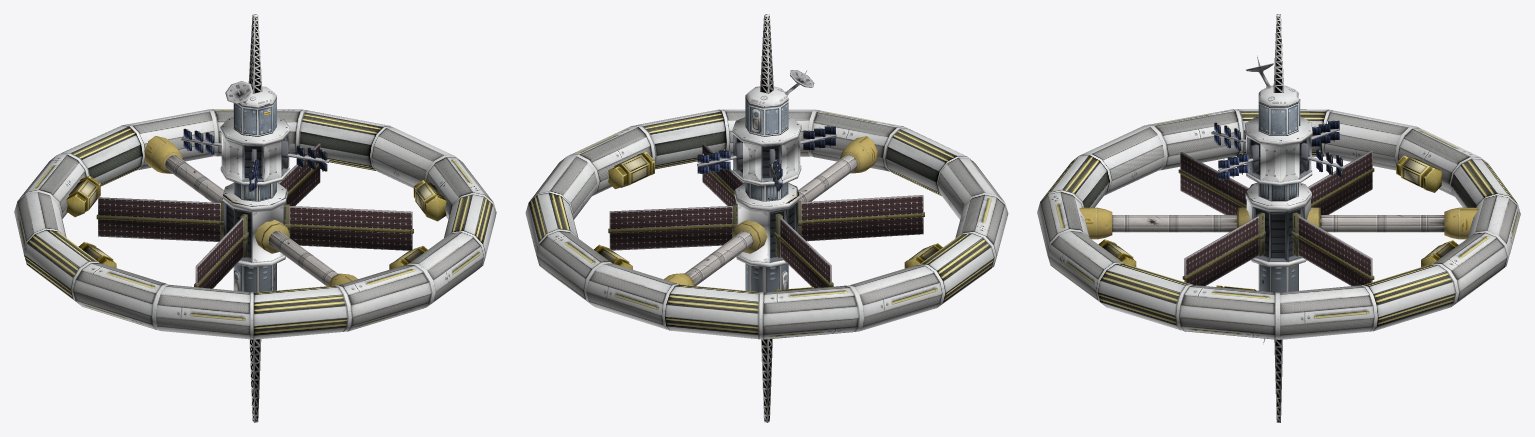
The model's file is spacestation.obj.
3 renders of one model, left to right at view 1: azimuth 30°, elevation 25°; view 2: azimuth 150°, elevation 25°; view 3: azimuth 270°, elevation 25°, orthographic.
Visible parts, largest first — view 1: RT_3D_Station2_Model; view 2: RT_3D_Station2_Model; view 3: RT_3D_Station2_Model.
Part boxes in pixels (x1,y1,x2,y2): RT_3D_Station2_Model: [14, 14, 496, 422]; RT_3D_Station2_Model: [525, 14, 1008, 422]; RT_3D_Station2_Model: [1037, 14, 1520, 422].
Bounding box in the file's own units: 110 × 102 × 110.
1 material, 1 textured.
